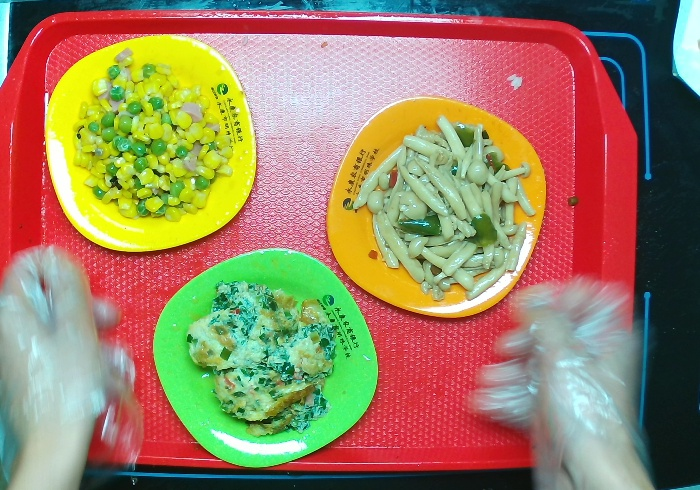YKMZ-Huang_Se_Fang_Die: (36, 26, 270, 262)
YKMZ-Ju_Se_Fang_Die: (318, 93, 548, 328)
YKMZ-Lv_Se_Fang_Die: (138, 242, 382, 472)
